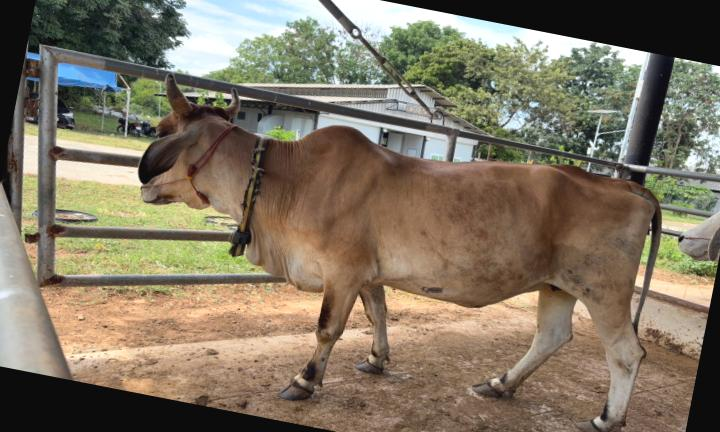Brahman: (138, 74, 660, 432)
